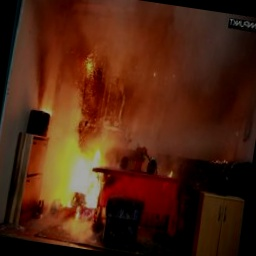fire: (40, 125, 118, 219)
